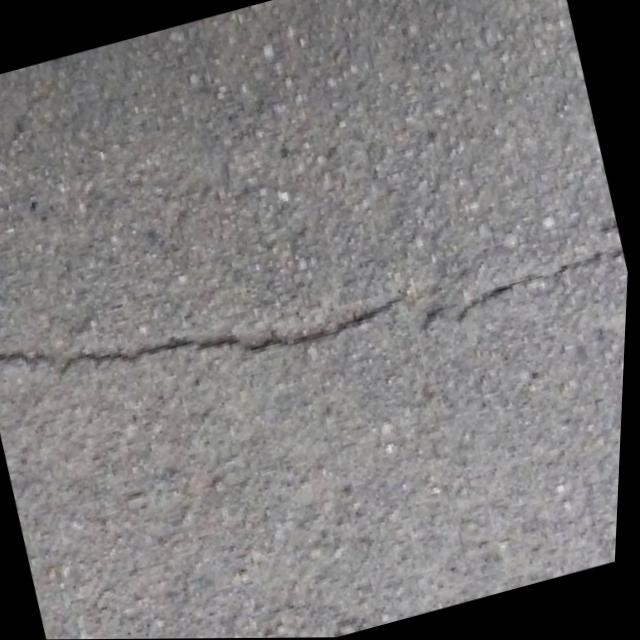Crack: (0, 152, 635, 468)
